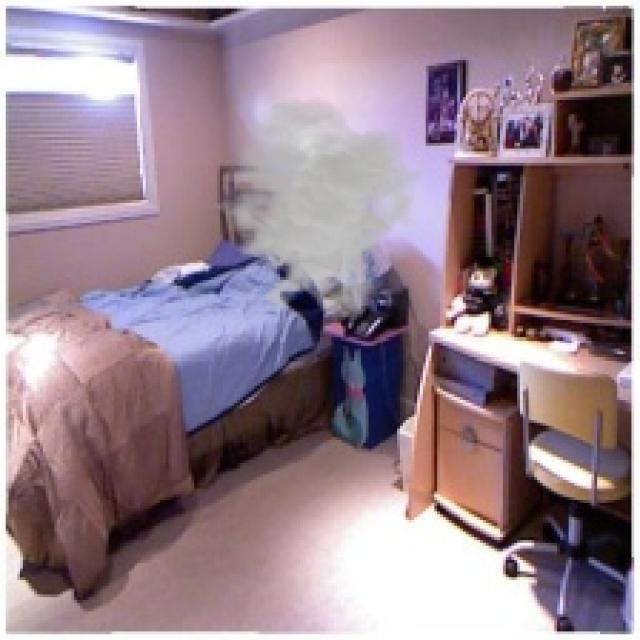smoke: (203, 97, 423, 323)
